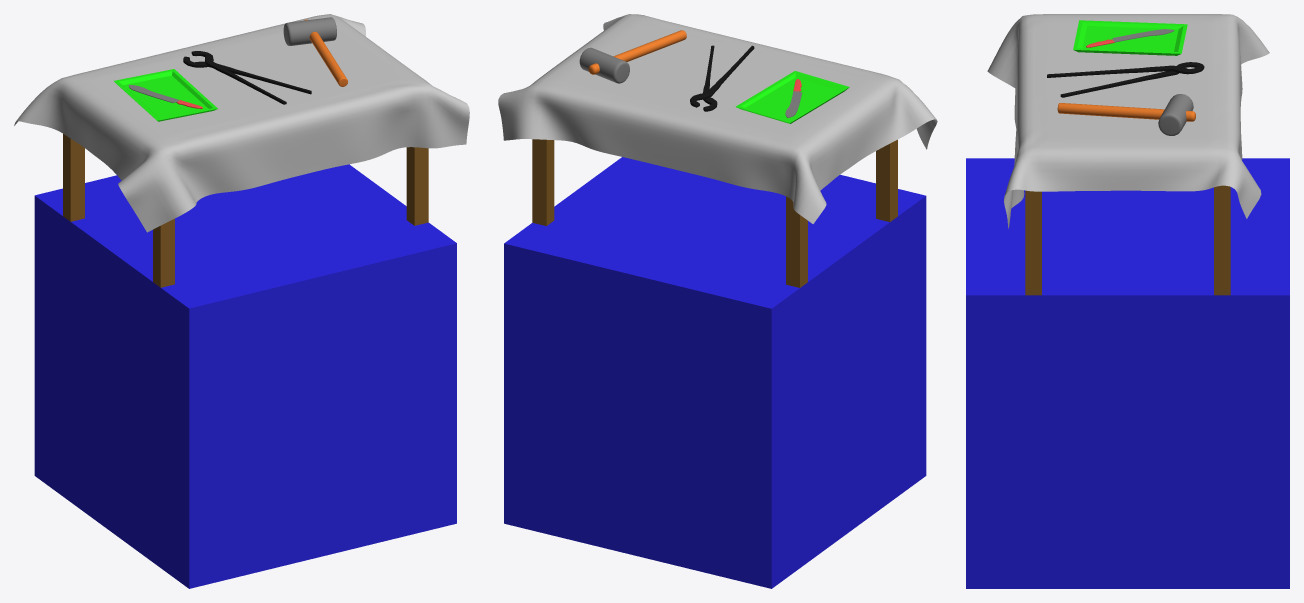
Rendered from ToolsTable.fbx.
3 renders of one model, left to right at view 1: azimuth 30°, elevation 25°; view 2: azimuth 150°, elevation 25°; view 3: azimuth 270°, elevation 25°, orthographic. The views are drawn at different scales.
Parts seen in each view (by area): view 1: Box253, Cloth, connecttable_lowpoly, Tray, HammerHea, HammerNeck, WrenchLeft; view 2: Box253, Cloth, connecttable_lowpoly, Tray, HammerHea, HammerNeck; view 3: Box253, Cloth, connecttable_lowpoly, Tray, HammerNeck, HammerHea, WrenchRight, WrenchLeft.
Part boxes in pixels (left/top/right/bottom): Box253: left=34, top=164, right=456, bottom=588; Cloth: left=14, top=14, right=469, bottom=232; connecttable_lowpoly: left=63, top=134, right=428, bottom=287; Tray: left=114, top=69, right=217, bottom=121; HammerHea: left=283, top=17, right=336, bottom=45; HammerNeck: left=304, top=19, right=347, bottom=86; WrenchLeft: left=183, top=56, right=311, bottom=94; Box253: left=504, top=157, right=926, bottom=588; Cloth: left=498, top=14, right=937, bottom=223; connecttable_lowpoly: left=532, top=139, right=897, bottom=287; Tray: left=735, top=71, right=849, bottom=123; HammerHea: left=579, top=47, right=629, bottom=83; HammerNeck: left=588, top=30, right=686, bottom=74; Box253: left=966, top=158, right=1289, bottom=588; Cloth: left=987, top=14, right=1269, bottom=228; connecttable_lowpoly: left=1025, top=185, right=1230, bottom=295; Tray: left=1073, top=20, right=1187, bottom=55; HammerNeck: left=1057, top=103, right=1195, bottom=121; HammerHea: left=1158, top=94, right=1193, bottom=135; WrenchRight: left=1047, top=65, right=1204, bottom=77; WrenchLeft: left=1060, top=62, right=1202, bottom=97.
Bounding box in the file's own units: 50 × 62.08 × 39.5.
